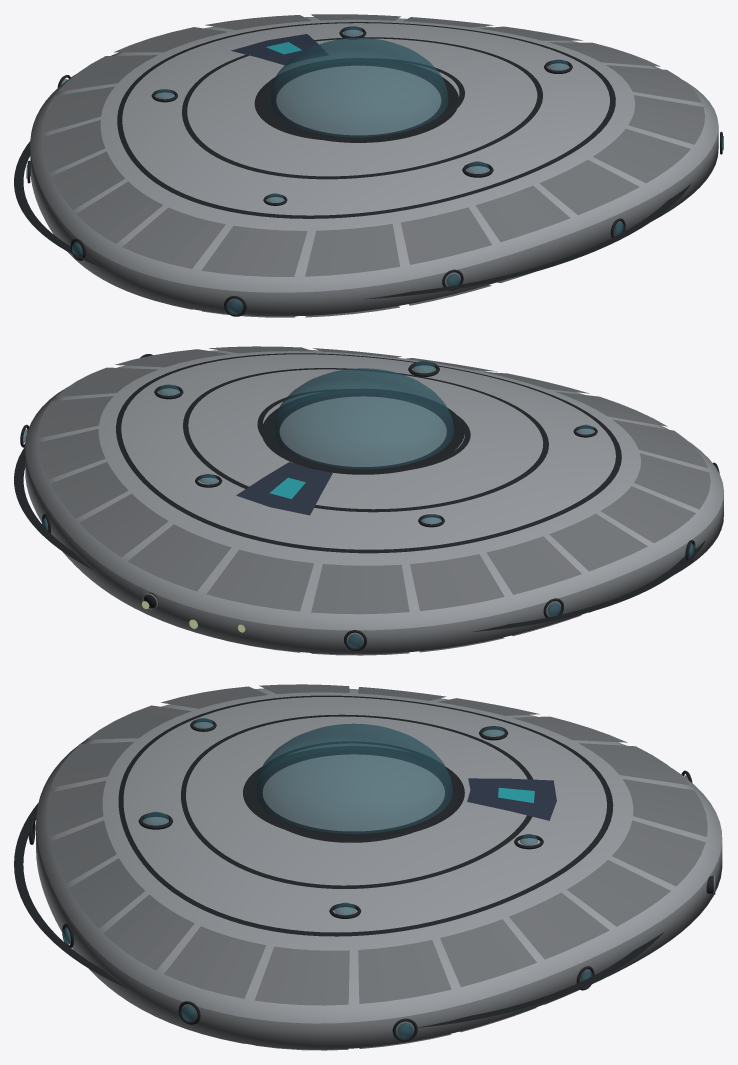
File: Ship_FlyingSaucer_750147.glb
The picture shows the model from 3 angles, top to bottom: view 1: azimuth 30°, elevation 25°; view 2: azimuth 150°, elevation 25°; view 3: azimuth 270°, elevation 25°; orthographic projection. The views are drawn at different scales.
Parts seen in each view (by area): view 1: Hull_LenticularThickDiscBody, CommandDomeGlass_CenteredFlattenedDome, RimArmorSegment_13_UpperHullPlate, PanelRing_Top_03_DarkInsetLine, RimArmorSegment_14_UpperHullPlate, CommandDomeFrame_UpperCircularRim, RimArmorSegment_12_UpperHullPlate, RimArmorSegment_15_UpperHullPlate, RimArmorSegment_16_UpperHullPlate, EquatorBand_DarkContinuousRimSeam, RimArmorSegment_17_UpperHullPlate, RimArmorSegment_18_UpperHullPlate (+15 smaller); view 2: Hull_LenticularThickDiscBody, CommandDomeGlass_CenteredFlattenedDome, RimArmorSegment_06_UpperHullPlate, RimArmorSegment_07_UpperHullPlate, PanelRing_Top_03_DarkInsetLine, CommandDomeFrame_UpperCircularRim, RimArmorSegment_08_UpperHullPlate, RimArmorSegment_05_UpperHullPlate, RimArmorSegment_09_UpperHullPlate, RimArmorSegment_10_UpperHullPlate, RimArmorSegment_04_UpperHullPlate, RimArmorSegment_11_UpperHullPlate (+14 smaller); view 3: Hull_LenticularThickDiscBody, CommandDomeGlass_CenteredFlattenedDome, RimArmorSegment_20_UpperHullPlate, PanelRing_Top_03_DarkInsetLine, RimArmorSegment_01_UpperHullPlate, CommandDomeFrame_UpperCircularRim, RimArmorSegment_19_UpperHullPlate, RimArmorSegment_02_UpperHullPlate, RimArmorSegment_18_UpperHullPlate, RimArmorSegment_04_UpperHullPlate, RimArmorSegment_03_UpperHullPlate, RimArmorSegment_05_UpperHullPlate (+15 smaller).
Part boxes in pixels (x1,y1,x2,y2): Hull_LenticularThickDiscBody: (30,17,718,316); CommandDomeGlass_CenteredFlattenedDome: (269,38,448,137); RimArmorSegment_13_UpperHullPlate: (201,225,307,276); PanelRing_Top_03_DarkInsetLine: (117,22,615,218); RimArmorSegment_14_UpperHullPlate: (305,224,399,276); CommandDomeFrame_UpperCircularRim: (260,58,458,142); RimArmorSegment_12_UpperHullPlate: (122,207,225,268); RimArmorSegment_15_UpperHullPlate: (401,207,491,264); RimArmorSegment_16_UpperHullPlate: (475,186,570,242); EquatorBand_DarkContinuousRimSeam: (14,141,691,299); RimArmorSegment_17_UpperHullPlate: (539,160,639,215); RimArmorSegment_18_UpperHullPlate: (593,128,690,183); Hull_LenticularThickDiscBody: (25,349,723,654); CommandDomeGlass_CenteredFlattenedDome: (272,368,453,469); RimArmorSegment_06_UpperHullPlate: (206,549,313,611); RimArmorSegment_07_UpperHullPlate: (311,564,409,614); PanelRing_Top_03_DarkInsetLine: (116,353,621,553); CommandDomeFrame_UpperCircularRim: (263,389,464,474); RimArmorSegment_08_UpperHullPlate: (410,554,504,610); RimArmorSegment_05_UpperHullPlate: (127,524,231,591); RimArmorSegment_09_UpperHullPlate: (486,536,581,594); RimArmorSegment_10_UpperHullPlate: (549,513,647,571); RimArmorSegment_04_UpperHullPlate: (79,494,168,557); RimArmorSegment_11_UpperHullPlate: (600,486,695,543); Hull_LenticularThickDiscBody: (36,688,722,1049); CommandDomeGlass_CenteredFlattenedDome: (255,723,452,833); RimArmorSegment_20_UpperHullPlate: (254,946,349,1005); PanelRing_Top_03_DarkInsetLine: (118,695,613,936); RimArmorSegment_01_UpperHullPlate: (358,940,451,1003); CommandDomeFrame_UpperCircularRim: (243,746,464,839); RimArmorSegment_19_UpperHullPlate: (164,926,265,998); RimArmorSegment_02_UpperHullPlate: (440,919,536,986); RimArmorSegment_18_UpperHullPlate: (103,894,194,970); RimArmorSegment_04_UpperHullPlate: (567,860,670,926); RimArmorSegment_03_UpperHullPlate: (509,892,609,959); RimArmorSegment_05_UpperHullPlate: (612,820,705,886).
Size of the model in its own units: 5.27 by 1.51 by 4.67.
